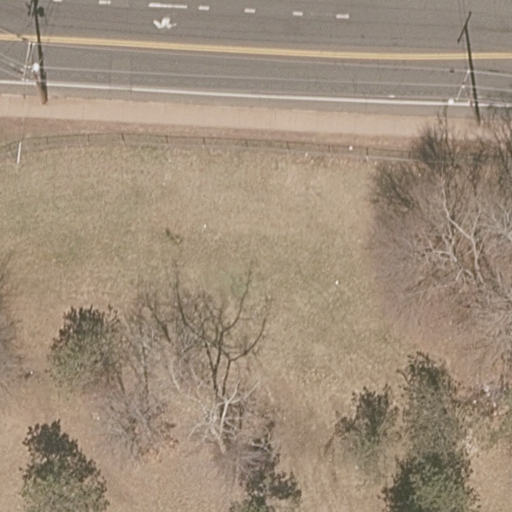DT: (21, 38, 49, 106), (454, 69, 482, 126)
